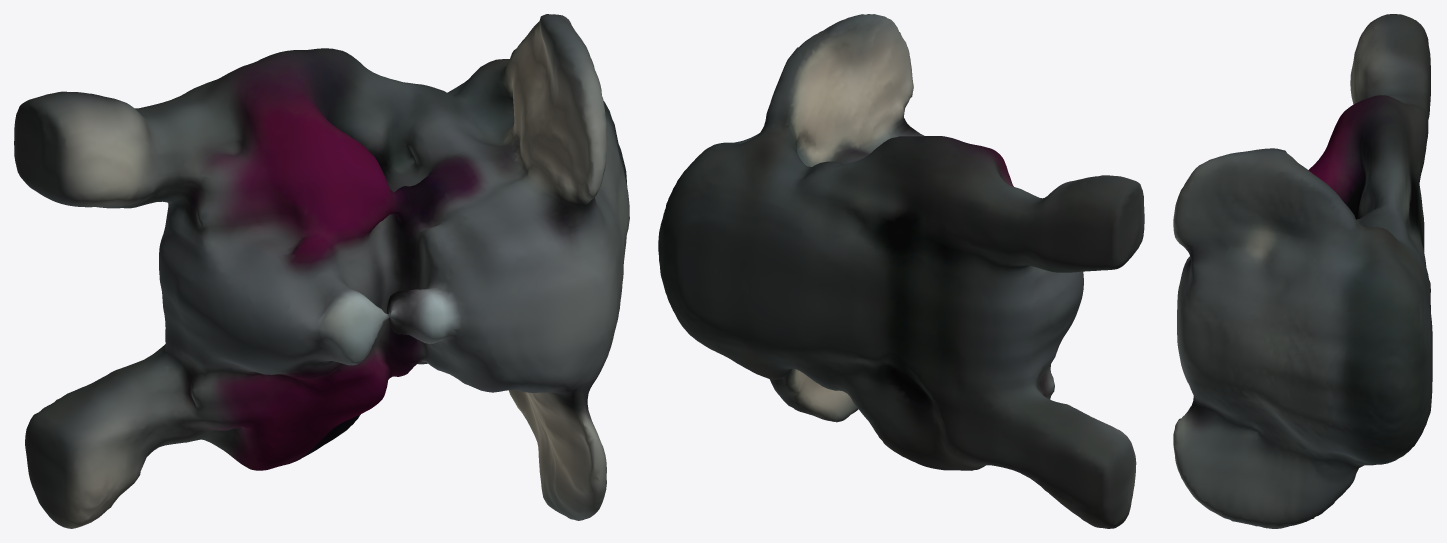
Rendered from elephant.glb.
3 views of the same model, side by side, from view 1: azimuth 30°, elevation 25°; view 2: azimuth 150°, elevation 25°; view 3: azimuth 270°, elevation 25° (orthographic). The views are drawn at different scales.
Bounding box in the file's own units: 0.9998 × 0.8008 × 0.4996.
